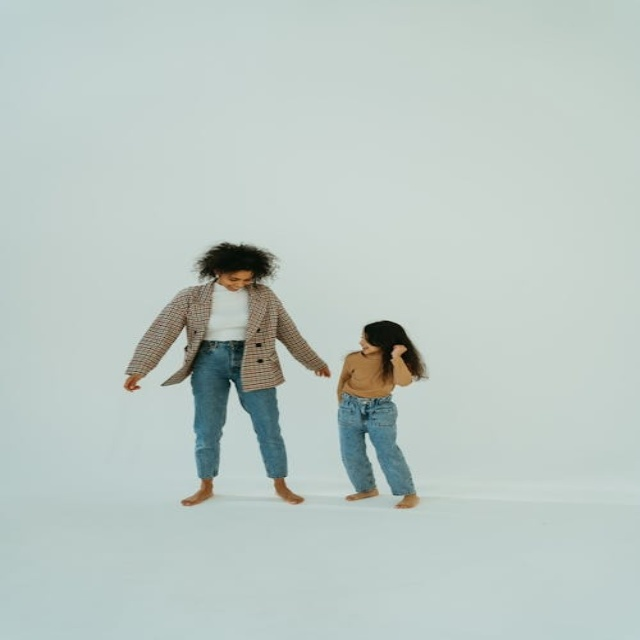Sin_gafas: (223, 271, 253, 283)
Sin_guantes: (116, 373, 145, 395), (383, 341, 411, 360), (307, 364, 334, 378)
Sin_mascara: (220, 282, 247, 293), (357, 341, 374, 354)
